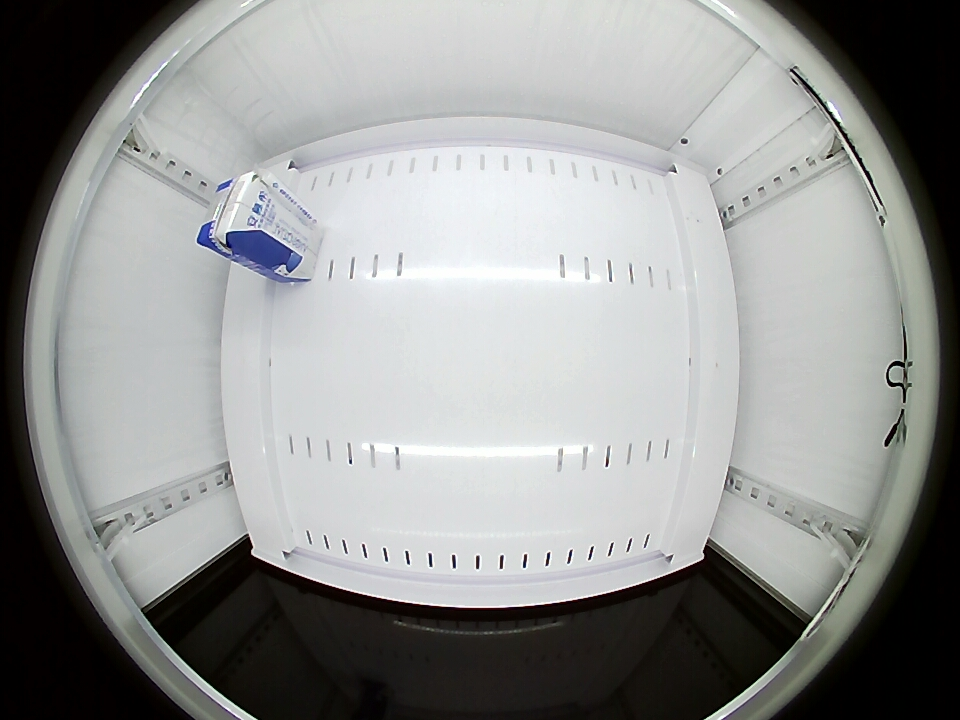anmuxi: (198, 170, 278, 256)
